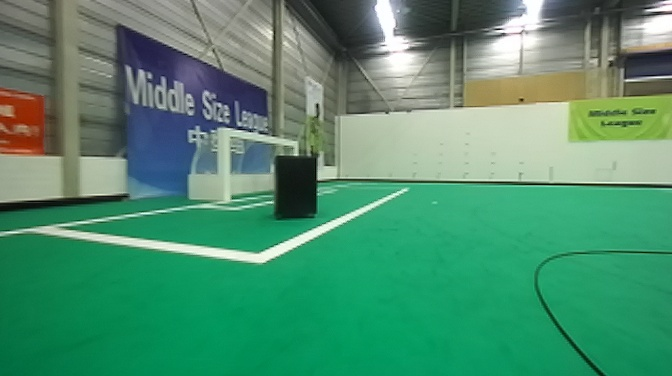goalpost: (217, 127, 235, 202), (288, 139, 297, 158)
